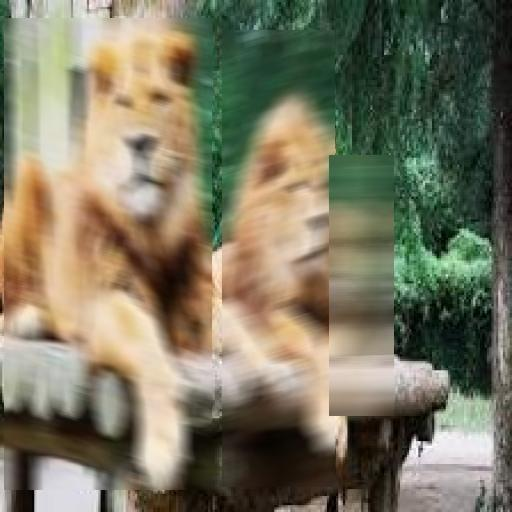lion: (4, 18, 212, 490), (222, 30, 335, 487), (329, 155, 394, 416)
